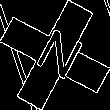N_SW: (25, 24, 85, 86)
